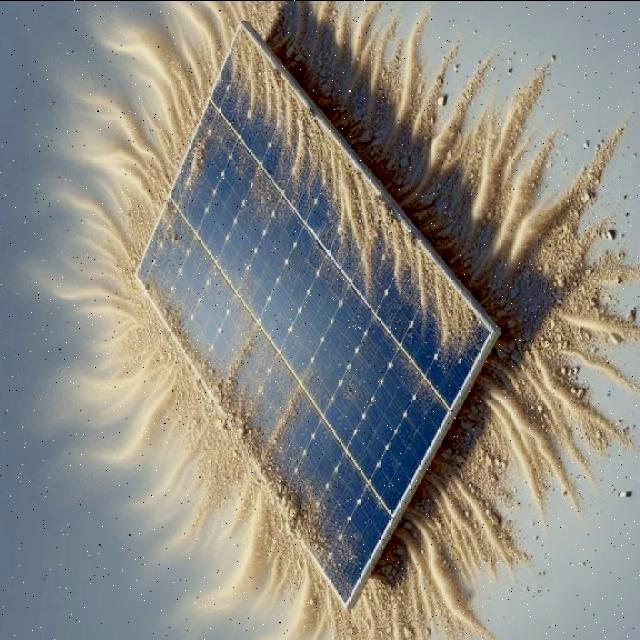Anomaly Solar Panel: (15, 22, 567, 608)
Surface Contaminant: (147, 23, 506, 422), (138, 232, 400, 621), (193, 95, 257, 179), (169, 119, 213, 206), (146, 194, 183, 255)
